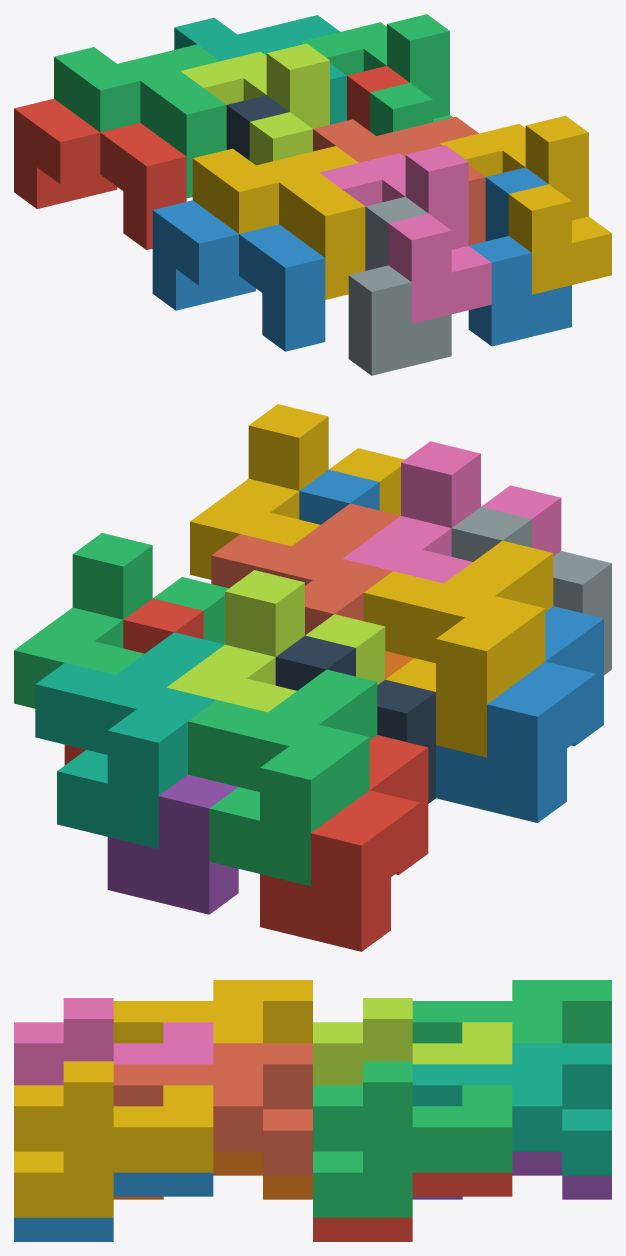
Rendered from tiling.obj.
3 views of the same model, one above another, from view 1: azimuth 30°, elevation 25°; view 2: azimuth 150°, elevation 25°; view 3: azimuth 270°, elevation 25° (orthographic). The views are drawn at different scales.
Visible parts, largest first — view 1: copy_1_domain_2, copy_2_domain_4, copy_2_domain_8, copy_1_domain_1, copy_1_domain_4, copy_1_domain_3, copy_2_domain_2, copy_2_domain_7, copy_2_domain_3, copy_2_domain_6, copy_1_domain_8, copy_1_domain_7 (+2 smaller); view 2: copy_1_domain_3, copy_1_domain_4, copy_1_domain_7, copy_1_domain_1, copy_1_domain_2, copy_2_domain_8, copy_2_domain_7, copy_2_domain_3, copy_2_domain_4, copy_1_domain_5, copy_1_domain_8, copy_2_domain_1 (+3 smaller); view 3: copy_2_domain_8, copy_2_domain_7, copy_1_domain_7, copy_1_domain_8, copy_2_domain_4, copy_2_domain_3, copy_1_domain_3, copy_1_domain_4, copy_2_domain_5, copy_2_domain_6, copy_1_domain_5, copy_1_domain_6.
Boxes of the visible parts, x1,y1,x2,y2 form: copy_1_domain_2: (152, 200, 325, 351); copy_2_domain_4: (319, 145, 491, 323); copy_2_domain_8: (440, 115, 611, 294); copy_1_domain_1: (14, 98, 186, 249); copy_1_domain_4: (192, 146, 365, 299); copy_1_domain_3: (54, 44, 226, 198); copy_2_domain_2: (348, 196, 451, 375); copy_2_domain_7: (301, 14, 452, 135); copy_2_domain_3: (181, 43, 329, 165); copy_2_domain_6: (468, 167, 571, 346); copy_1_domain_8: (313, 116, 485, 245); copy_1_domain_7: (174, 15, 346, 124); copy_1_domain_3: (188, 669, 377, 886); copy_1_domain_4: (363, 540, 553, 757); copy_1_domain_7: (35, 632, 224, 848); copy_1_domain_1: (260, 735, 428, 951); copy_1_domain_2: (436, 606, 603, 822); copy_2_domain_8: (190, 404, 404, 579); copy_2_domain_7: (14, 533, 228, 708); copy_2_domain_3: (166, 570, 385, 712); copy_2_domain_4: (342, 441, 561, 583); copy_1_domain_5: (107, 774, 238, 914); copy_1_domain_8: (211, 503, 400, 635); copy_2_domain_1: (275, 635, 435, 803); copy_2_domain_8: (14, 1061, 213, 1217); copy_2_domain_7: (313, 1061, 512, 1217); copy_1_domain_7: (412, 1043, 611, 1175); copy_1_domain_8: (113, 1043, 312, 1175); copy_2_domain_4: (14, 998, 213, 1085); copy_2_domain_3: (313, 998, 512, 1085); copy_1_domain_3: (412, 980, 611, 1043); copy_1_domain_4: (113, 980, 312, 1043); copy_2_domain_5: (313, 1172, 512, 1241); copy_2_domain_6: (14, 1172, 213, 1241); copy_1_domain_5: (412, 1151, 611, 1199); copy_1_domain_6: (113, 1151, 312, 1199).
Size of the model in its own units: 8 by 4 by 12.
